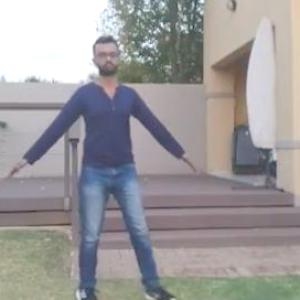land: (11, 43, 196, 299)
